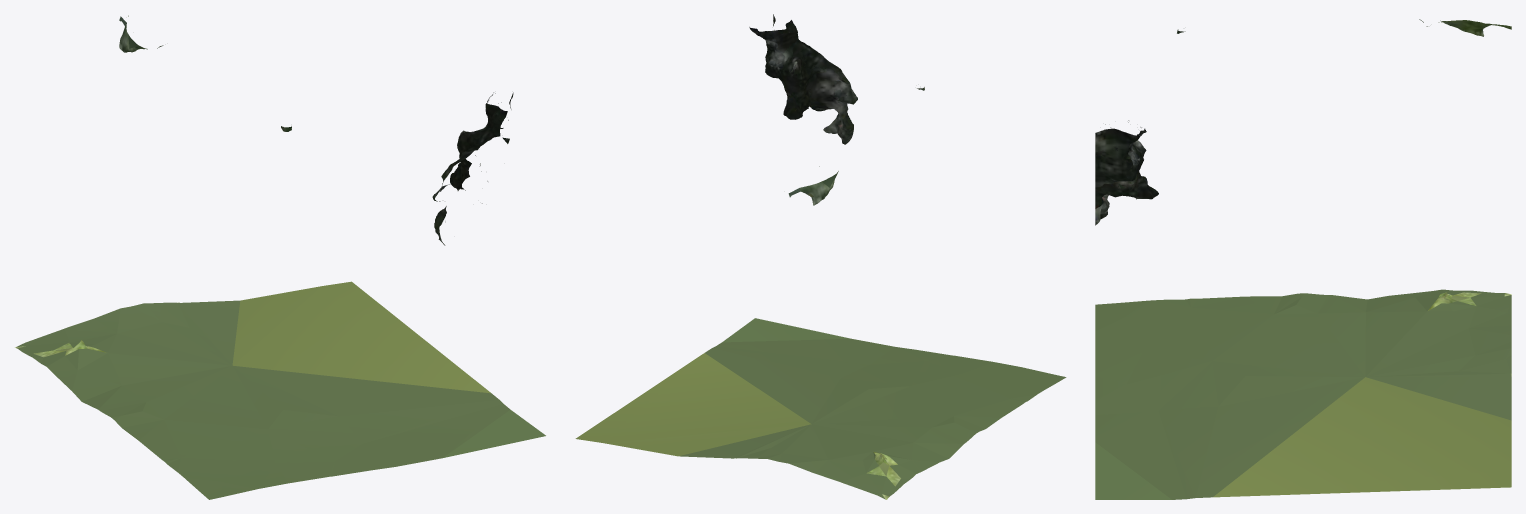
3 renders of one model, left to right at view 1: azimuth 30°, elevation 25°; view 2: azimuth 150°, elevation 25°; view 3: azimuth 270°, elevation 25°, orthographic. The views are drawn at different scales.
Size of the model in its own units: 1.97 by 1.86 by 1.97.
1 material, 1 textured.
